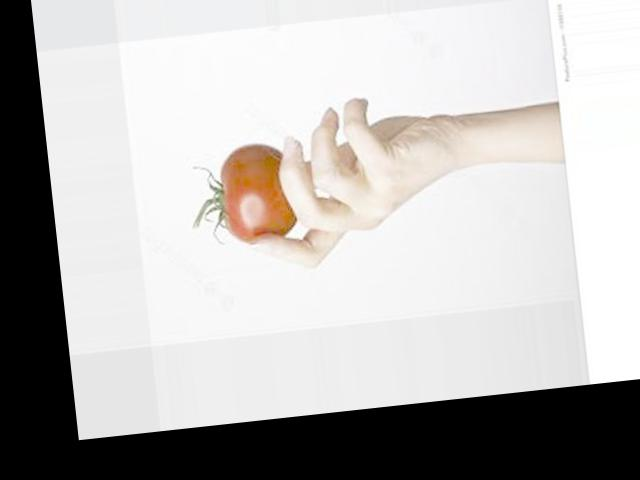tomato: (186, 141, 298, 248)
